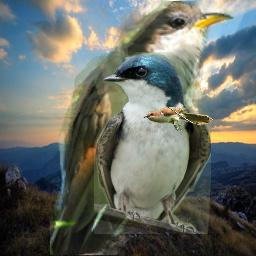Cuckoo: (50, 1, 234, 255), (143, 107, 213, 131)
Swallow: (94, 52, 211, 234)
